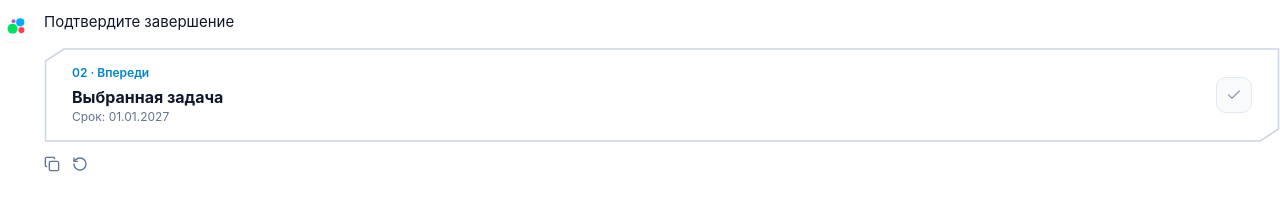
it: explicit action confirmation › shows only the selected task card for completion and updates it after confirmation
This screenshot has width=1280, height=221.
expect the heading "Выбранная задача" is shown: met, box [72,87,223,107]
expect the text "02 · Впереди" is shown: met, box [72,65,149,80]
Step 1. Click the button named "Завершить задачу" → click(1234, 95), box [1216,77,1252,113]
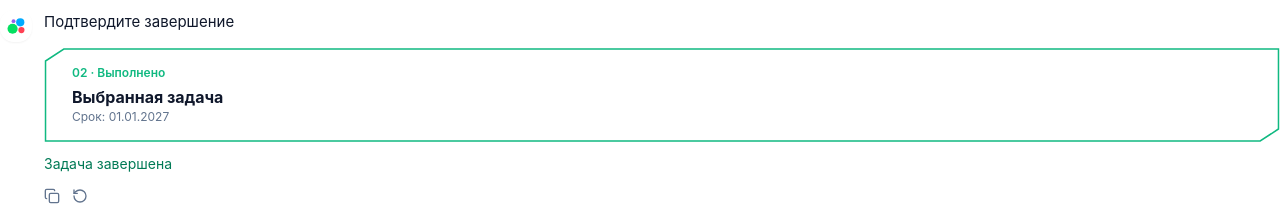
expect the message "Задача завершена" is shown: met, box [44,155,172,172]
expect the text "02 · Выполнено" is shown: met, box [72,65,165,80]
